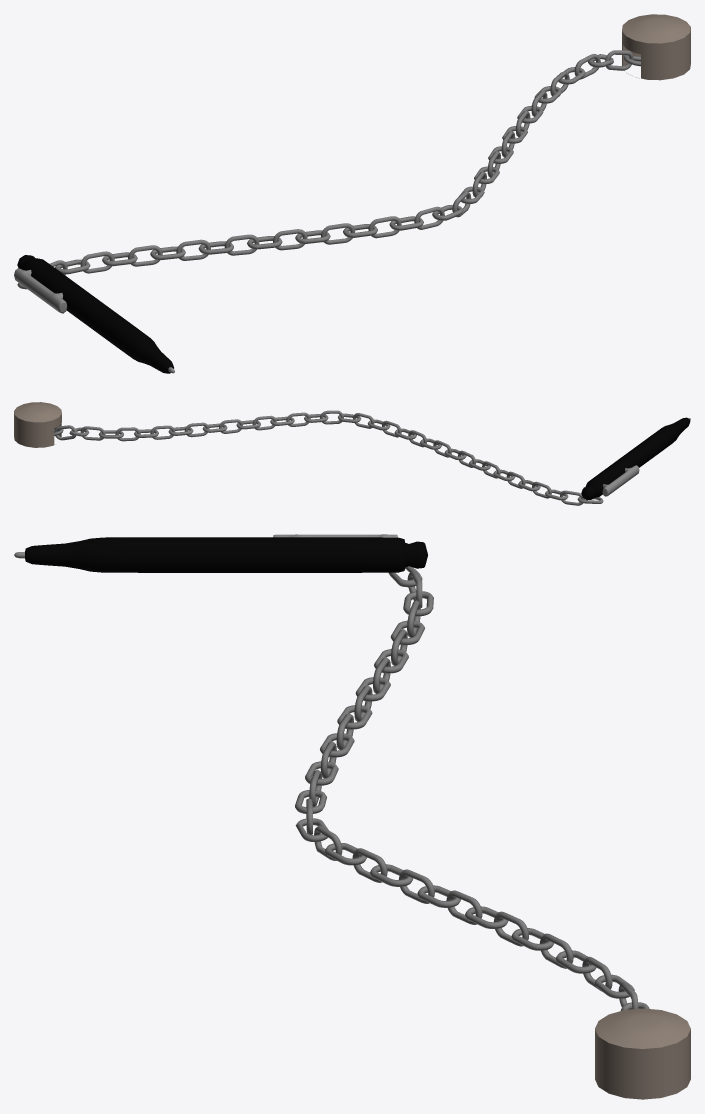
Rendered from CanetaPresa.fbx.
3 views of the same model, one above another, from view 1: azimuth 30°, elevation 25°; view 2: azimuth 150°, elevation 25°; view 3: azimuth 270°, elevation 25° (orthographic). The views are drawn at different scales.
Visible parts, largest first — view 1: Torus.001, Cube, Cylinder, Cube.001; view 2: Torus.001, Cube, Cylinder, Cube.001, Torus.002; view 3: Torus.001, Cube, Cylinder.
Part boxes in pixels (<box>): Torus.001: <box>17,54,609,289</box>; Cube: <box>17,255,173,373</box>; Cylinder: <box>622,14,690,80</box>; Cube.001: <box>14,268,67,313</box>; Torus.001: <box>73,410,603,505</box>; Cube: <box>581,417,690,500</box>; Cylinder: <box>14,402,61,447</box>; Cube.001: <box>602,465,639,496</box>; Torus.002: <box>54,425,79,440</box>; Torus.001: <box>295,566,649,1010</box>; Cube: <box>25,537,427,572</box>; Cylinder: <box>595,1008,690,1099</box>.
Bounding box in the file's own units: 10427 × 666 × 5822.
